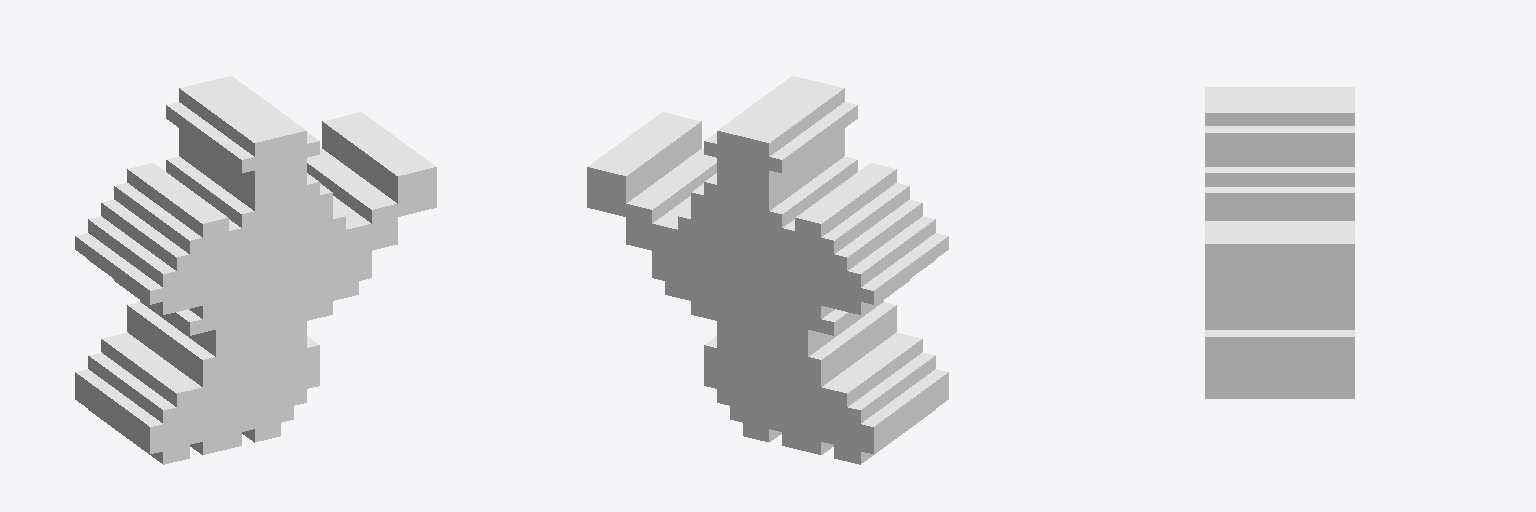
File: angel.obj
3 renders of one model, left to right at view 1: azimuth 30°, elevation 25°; view 2: azimuth 150°, elevation 25°; view 3: azimuth 270°, elevation 25°, orthographic.
Visible parts, largest first — view 1: object 1; view 2: object 1; view 3: object 1.
Part boxes in pixels (left/top/right/bottom): object 1: left=75, top=76, right=436, bottom=464; object 1: left=587, top=76, right=948, bottom=464; object 1: left=1205, top=87, right=1354, bottom=398.
Size of the model in its own units: 2.2 by 2.2 by 1.